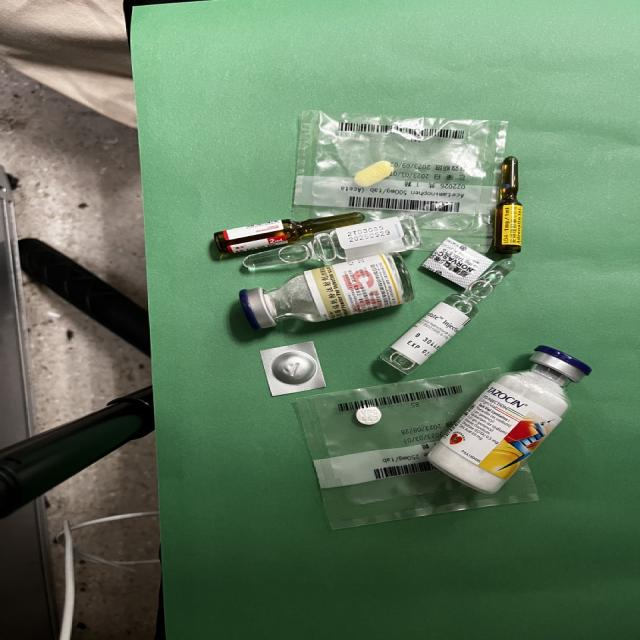Ampoules: (381, 259, 513, 374), (243, 214, 421, 272), (214, 212, 364, 254), (493, 157, 522, 254)
Vials: (429, 346, 589, 493), (241, 254, 413, 328)
